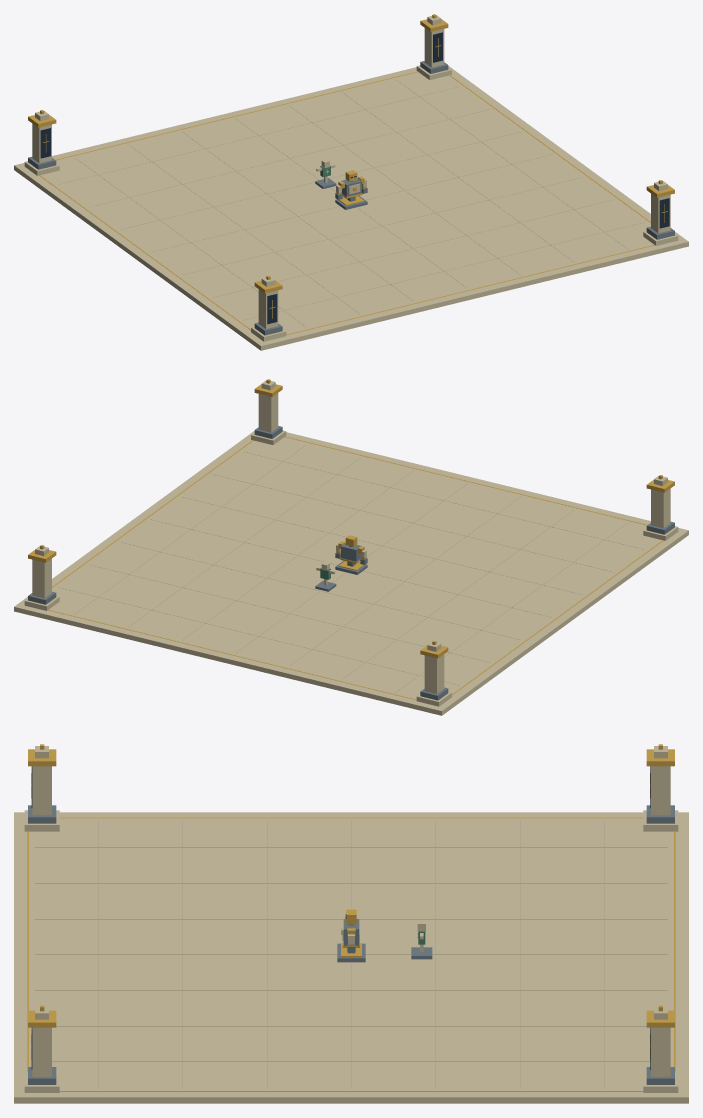
The model's file is trial_arena_complete.glb.
3 views of the same model, one above another, from view 1: azimuth 30°, elevation 25°; view 2: azimuth 150°, elevation 25°; view 3: azimuth 270°, elevation 25° (orthographic). The views are drawn at different scales.
Parts seen in each view (by area): view 1: trial_arena_complete; view 2: trial_arena_complete; view 3: trial_arena_complete.
Part boxes in pixels (x1=…): trial_arena_complete: x1=14, y1=14, x2=688, y2=350; trial_arena_complete: x1=14, y1=379, x2=688, y2=715; trial_arena_complete: x1=14, y1=744, x2=688, y2=1103.
Bounding box in the file's own units: 96 × 13.4 × 96.
